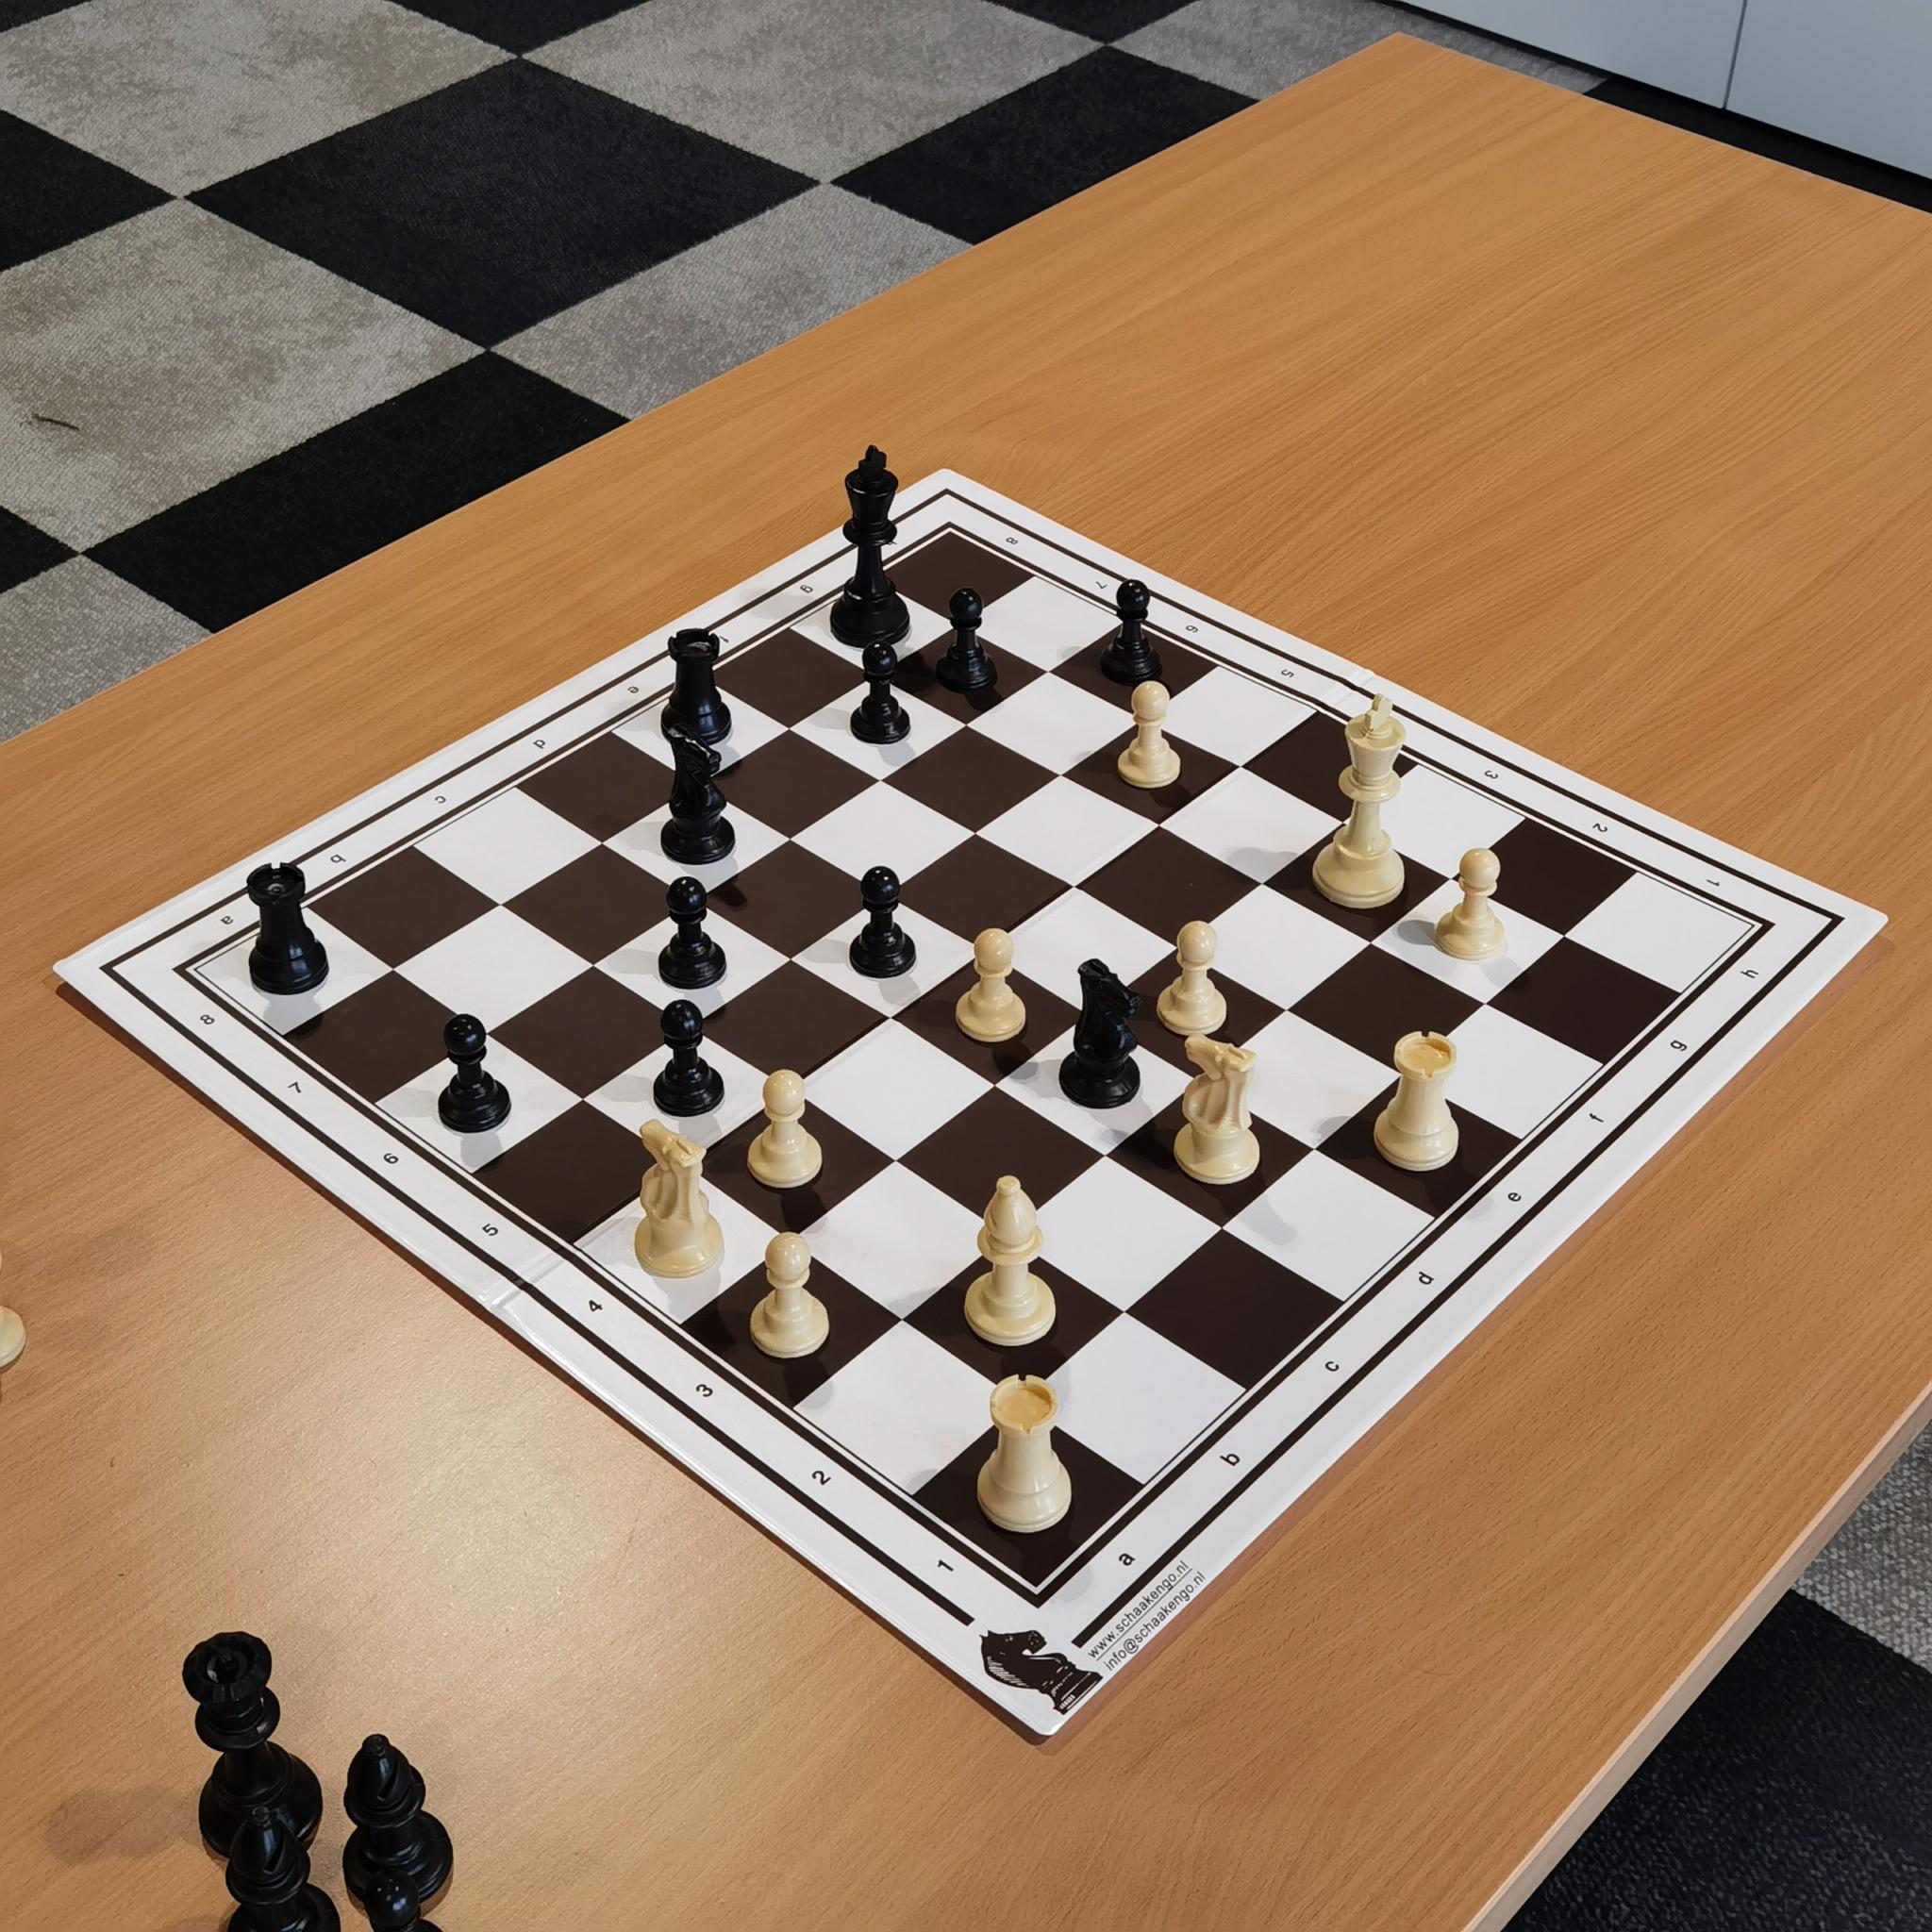corners: (1016, 1573, 1072, 1637), (1721, 908, 1785, 954), (166, 952, 232, 994), (934, 518, 973, 552)
eight: (186, 1000, 230, 1047), (991, 518, 1035, 561)
one: (918, 1541, 975, 1603), (1697, 862, 1736, 902)
